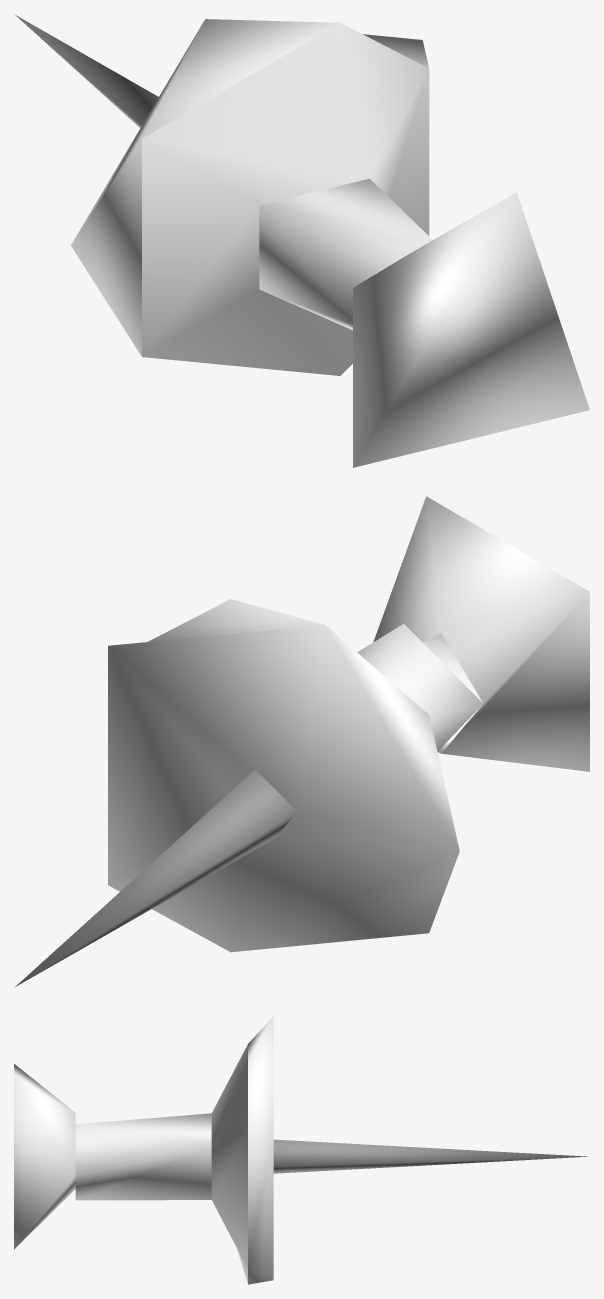
File: thumbtack_lod3.fbx
3 renders of one model, top to bottom at view 1: azimuth 30°, elevation 25°; view 2: azimuth 150°, elevation 25°; view 3: azimuth 270°, elevation 25°, orthographic. The views are drawn at different scales.
Parts seen in each view (by area): view 1: Thumb, pin; view 2: Thumb, pin; view 3: Thumb, pin.
Boxes of the visible parts, x1,y1,x2,y2 form: Thumb: (71, 19, 589, 467); pin: (14, 14, 158, 127); Thumb: (108, 496, 589, 952); pin: (14, 769, 297, 987); Thumb: (14, 1016, 273, 1284); pin: (273, 1139, 586, 1173).
Bounding box in the file's own units: 0.4806 × 0.4832 × 1.08.
